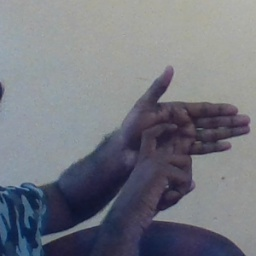R: (119, 67, 253, 206)
